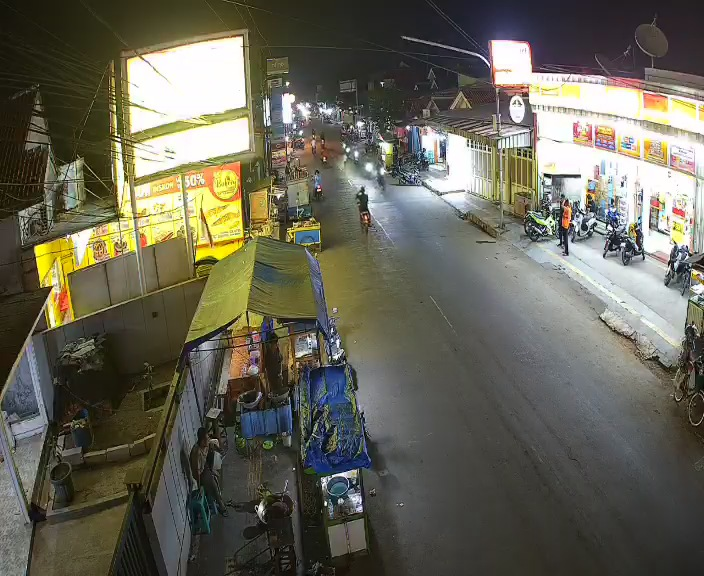Gerobak: (318, 467, 372, 563)
